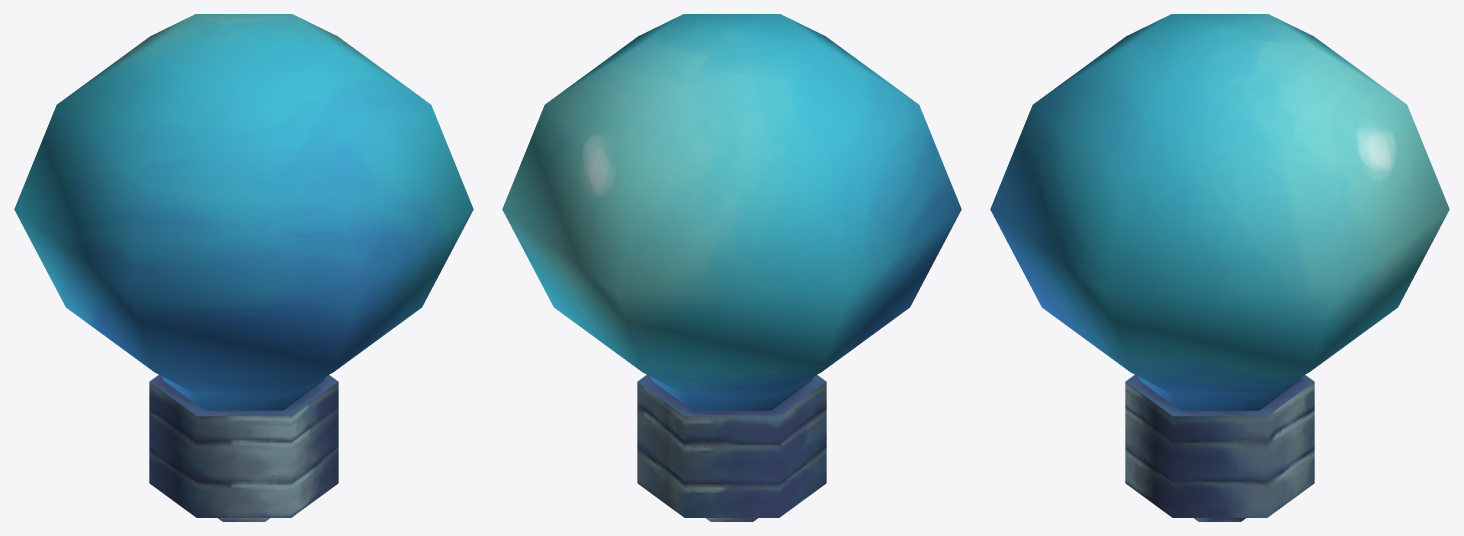
The model's file is recipe_pickUp.fbx.
3 views of the same model, side by side, from view 1: azimuth 30°, elevation 25°; view 2: azimuth 150°, elevation 25°; view 3: azimuth 270°, elevation 25° (orthographic).
Visible parts, largest first — view 1: recipe; view 2: recipe; view 3: recipe.
Boxes of the visible parts, bbox=[...] form: recipe: bbox=[14, 14, 473, 521]; recipe: bbox=[502, 14, 961, 521]; recipe: bbox=[990, 14, 1449, 521].
Bounding box in the file's own units: 29.45 × 25.51 × 34.2.
